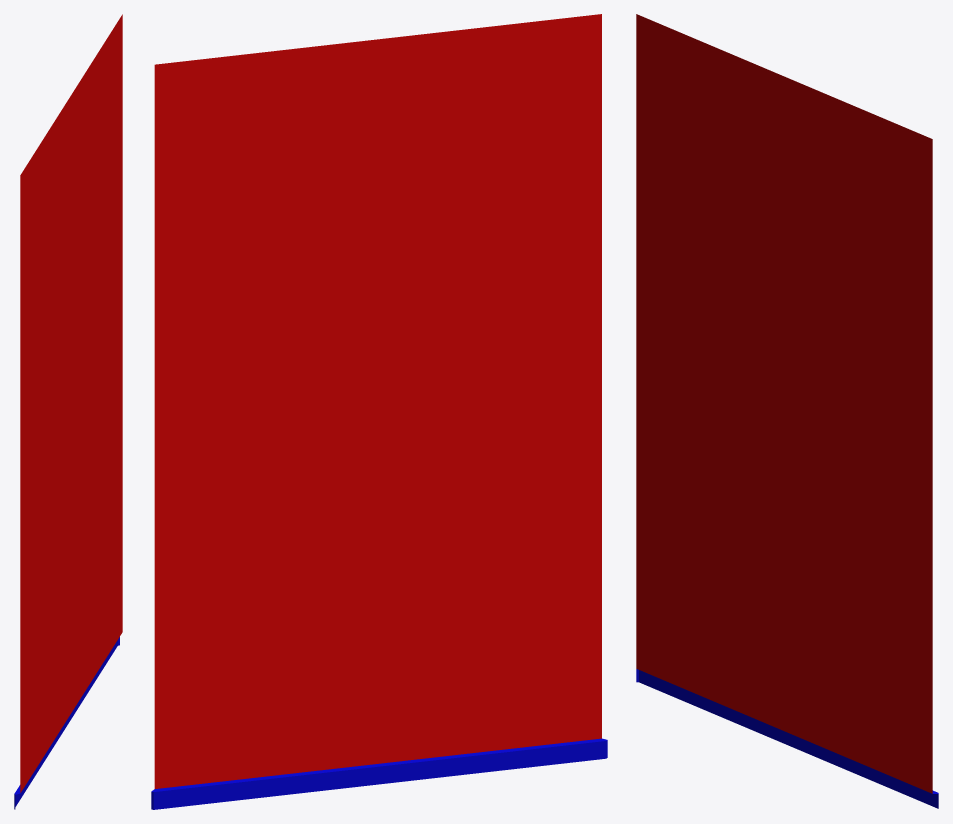
The model's file is DiagonalWall.fbx.
3 renders of one model, left to right at view 1: azimuth 30°, elevation 25°; view 2: azimuth 150°, elevation 25°; view 3: azimuth 270°, elevation 25°, orthographic. The views are drawn at different scales.
Parts seen in each view (by area): view 1: Diagonal Wall; view 2: Diagonal Wall; view 3: Diagonal Wall.
Part boxes in pixels (x1=…): Diagonal Wall: x1=14, y1=14, x2=122, y2=809; Diagonal Wall: x1=151, y1=14, x2=607, y2=809; Diagonal Wall: x1=636, y1=14, x2=938, y2=808.
Size of the model in its own units: 1.02 by 2.5 by 1.02.
